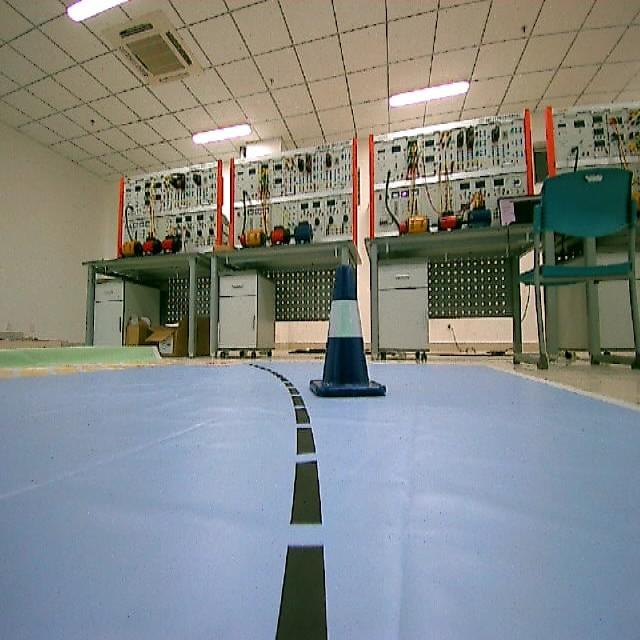obstacle: (294, 266, 388, 396)
